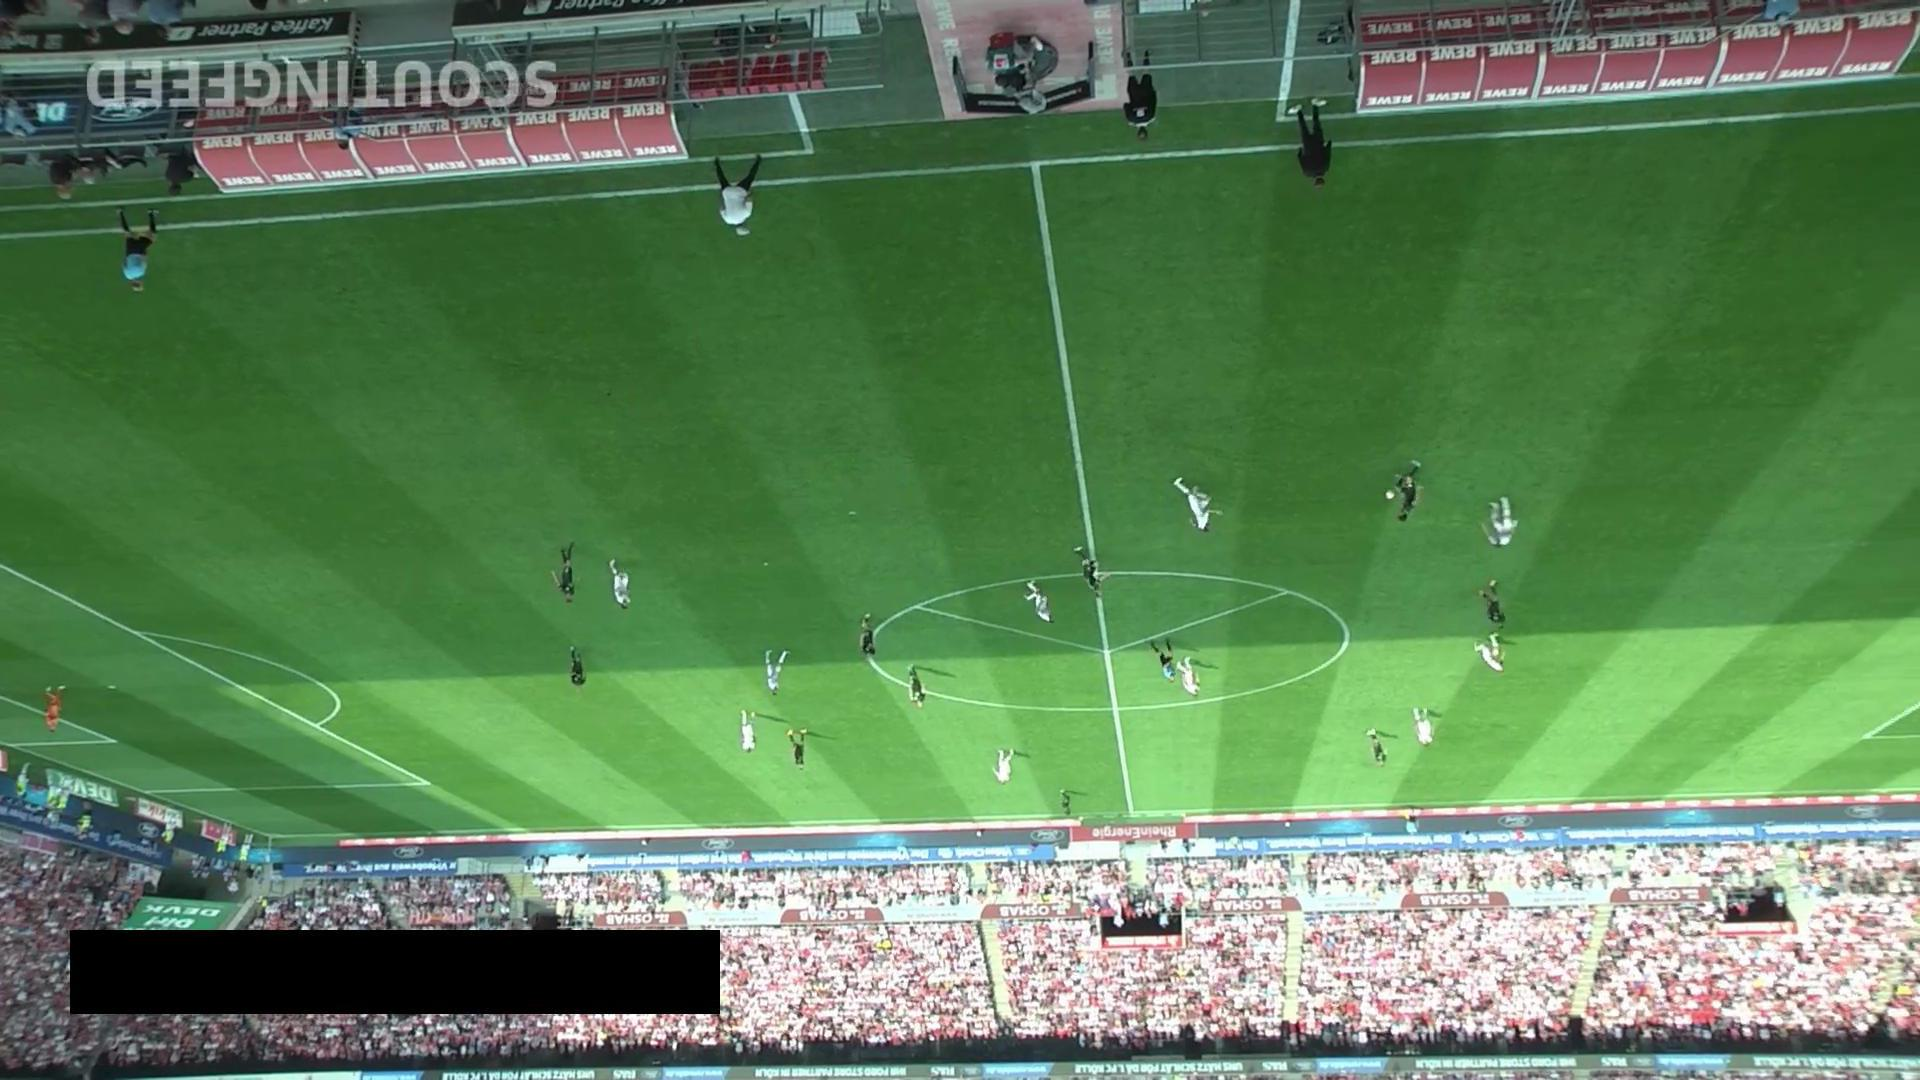ball: (1384, 489, 1396, 501)
goalkeeper: (43, 685, 66, 733)
player: (1172, 476, 1226, 533), (1482, 497, 1519, 548), (1393, 460, 1422, 523), (1074, 549, 1110, 599), (550, 542, 579, 604), (1477, 579, 1505, 627), (1023, 581, 1053, 624), (764, 649, 790, 697), (608, 558, 631, 612), (1475, 635, 1505, 673), (1179, 657, 1201, 698), (1412, 707, 1434, 748), (787, 728, 807, 770), (1366, 729, 1387, 768), (859, 612, 876, 660), (993, 749, 1015, 785), (908, 665, 926, 709), (740, 709, 756, 755), (569, 647, 586, 688), (1059, 790, 1072, 814)
referee: (117, 208, 159, 292), (1149, 639, 1177, 683), (1405, 808, 1421, 837)
